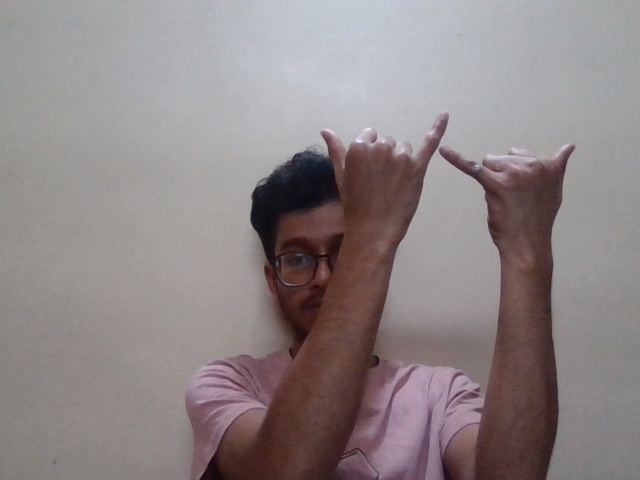today: (322, 94, 572, 265)
